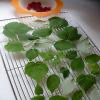Raspberry leaf: (23, 62, 49, 84), (2, 22, 34, 38), (76, 75, 98, 93), (56, 26, 83, 39), (47, 16, 69, 30), (76, 35, 93, 53), (4, 40, 27, 53), (71, 55, 87, 72), (34, 38, 58, 49), (62, 76, 75, 96), (53, 39, 76, 50), (47, 74, 59, 94), (24, 48, 39, 62), (32, 28, 52, 37), (60, 66, 70, 78)
